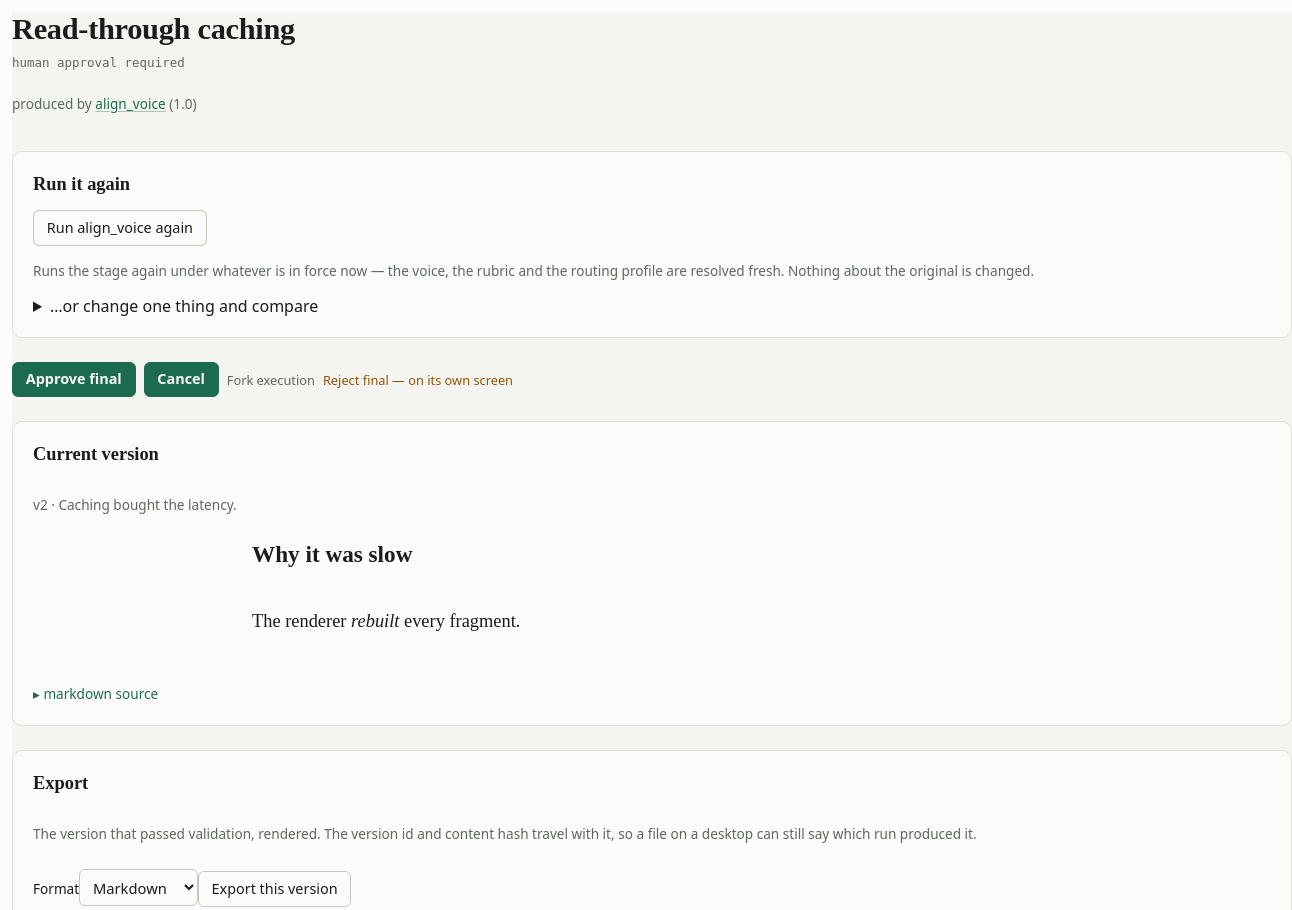
the article workspace › renders the article as the markdown it is, with the source a click away
The image size is (1292, 910).
Check: the heading "Why it was slow" is shown, box [252,542,412,568]
Check: the text "rebuilt" is shown, box [351,611,399,631]
Click the button "▸ markdown source".
click(96, 694)  # box [33,680,158,707]
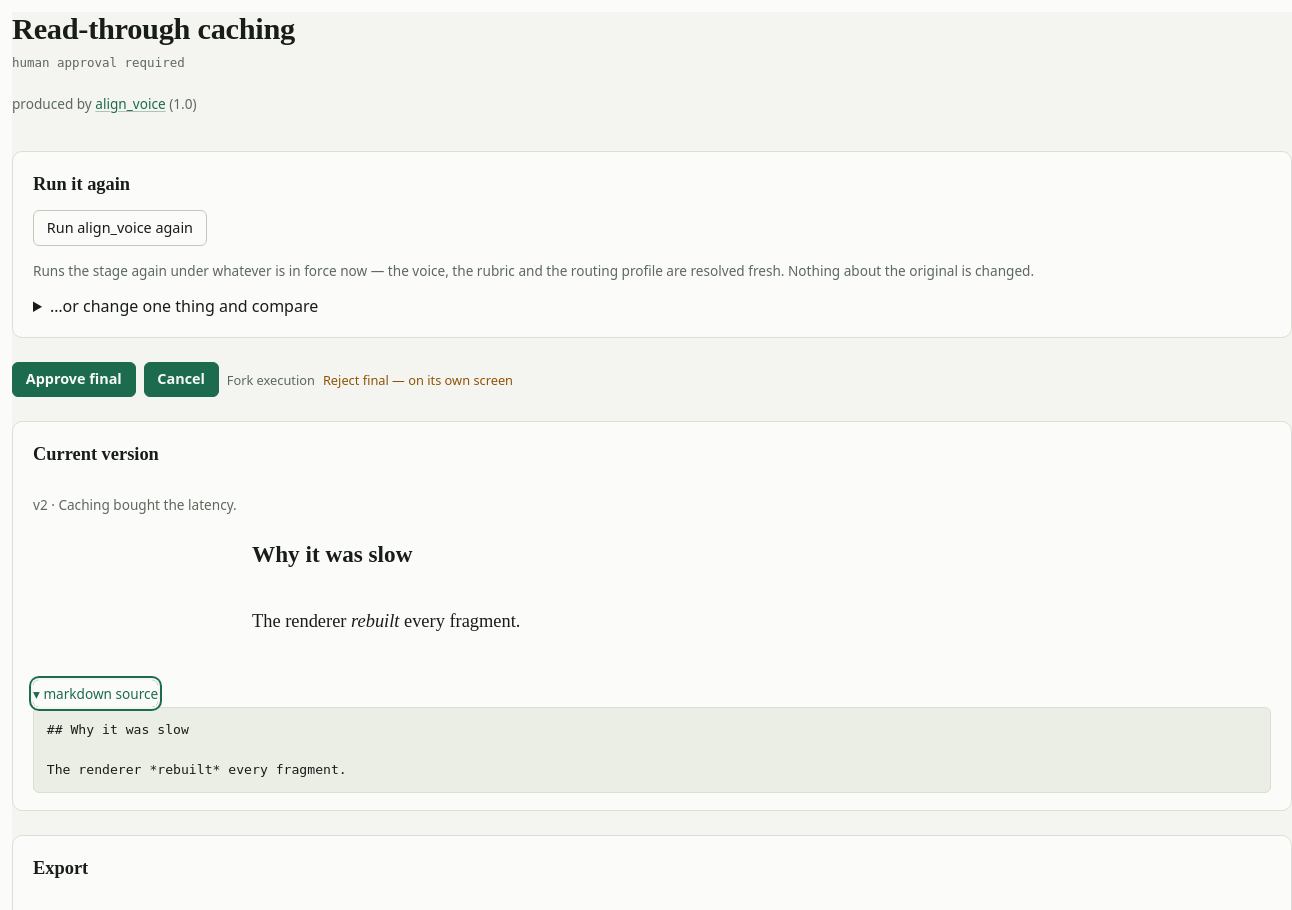
Check: the text "## Why it was slow The renderer *rebuilt* every fragment." is shown, box [33,707,1271,793]
